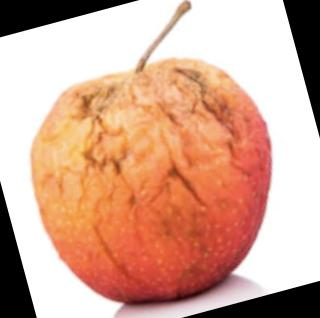Apple: (33, 62, 268, 302)
